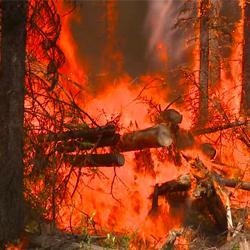fire: (89, 166, 146, 224), (97, 89, 142, 121)
